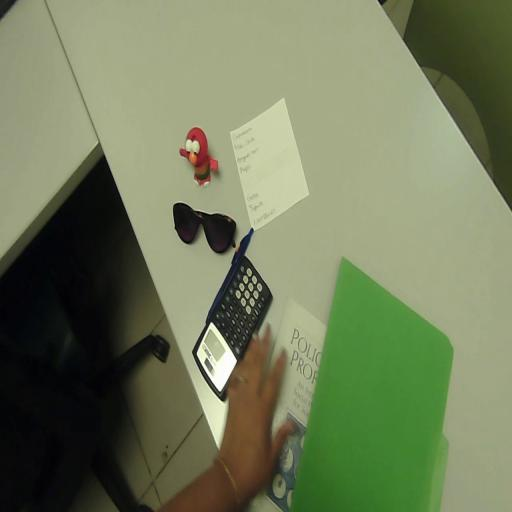pen: (207, 228, 253, 319)
